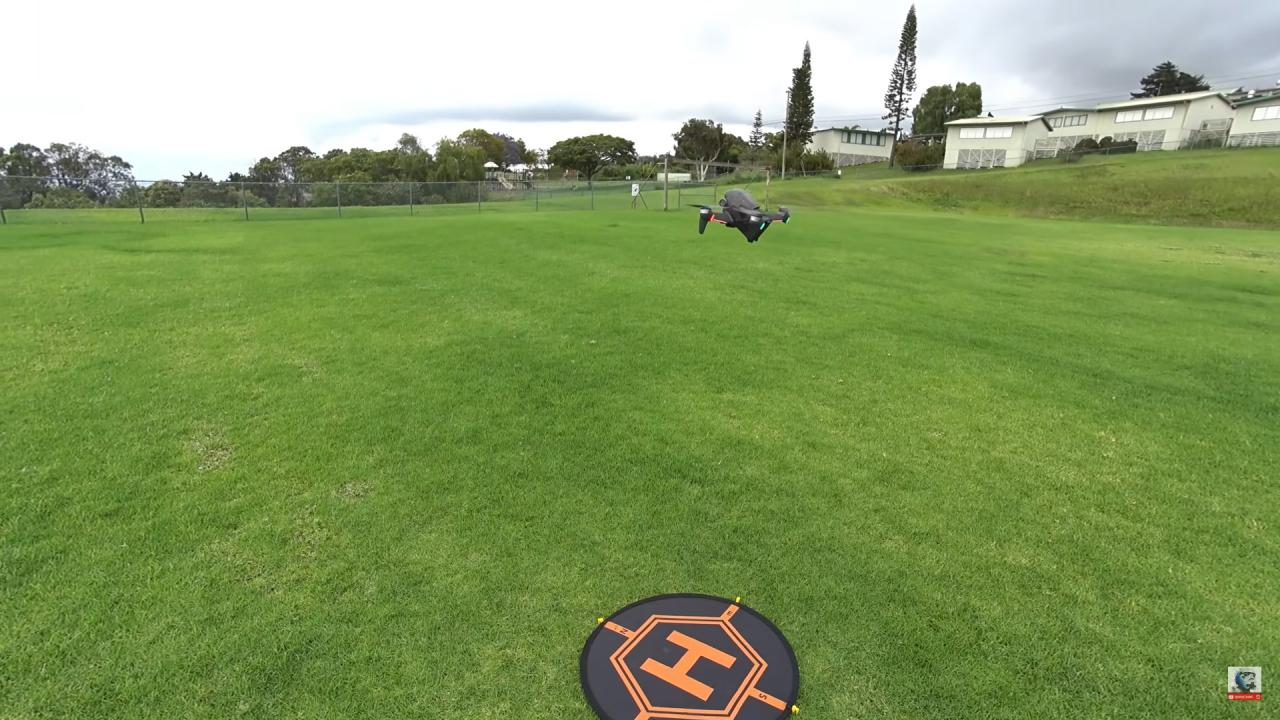Drone: (679, 184, 799, 250)
